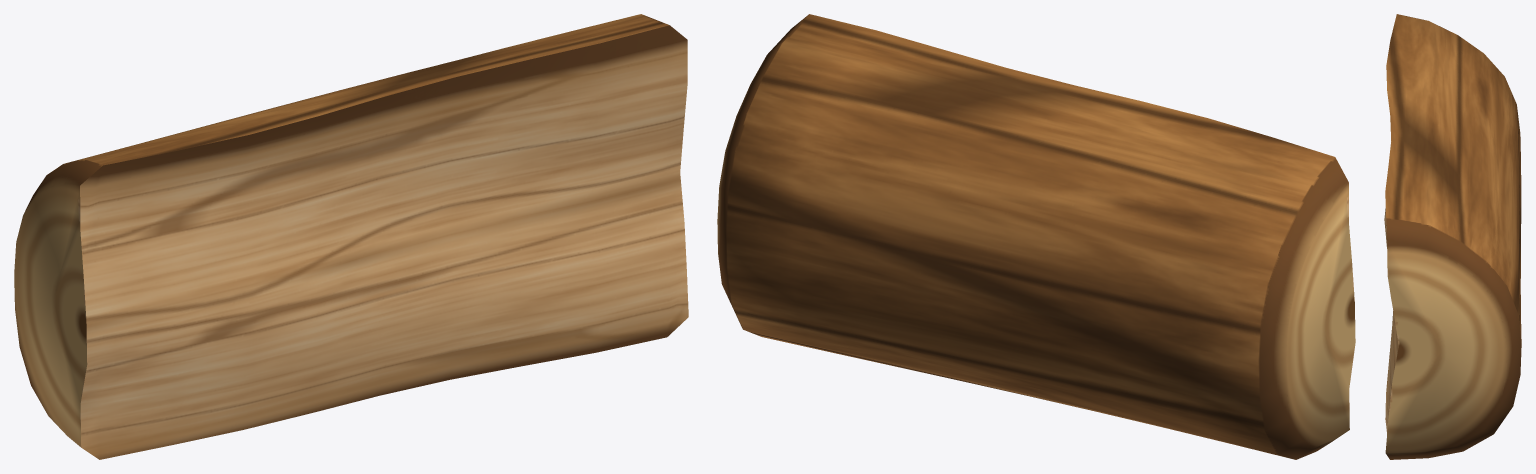
File: log_half_b.glb
The picture shows the model from 3 angles, left to right: view 1: azimuth 30°, elevation 25°; view 2: azimuth 150°, elevation 25°; view 3: azimuth 270°, elevation 25°; orthographic projection. The views are drawn at different scales.
Parts seen in each view (by area): view 1: log_half_b; view 2: log_half_b; view 3: log_half_b.
Boxes of the visible parts, x1,y1,x2,y2 form: log_half_b: (14, 14, 688, 459); log_half_b: (717, 14, 1355, 459); log_half_b: (1384, 14, 1521, 459).
Size of the model in its own units: 0.45 by 0.2262 by 0.1162.
1 material, 1 textured.
